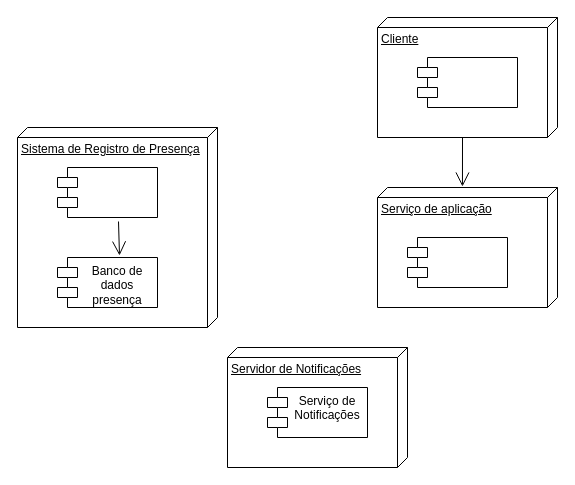
Image size: 575x485. Some labels were removed from this diagram. Here are the shapes that lost their labels. From the top down, the centre of each, then its label:
At (467,82): "Navegador Web".
At (107,192): "Serviço de Registro".
At (457,262): "Aplicação Web".
